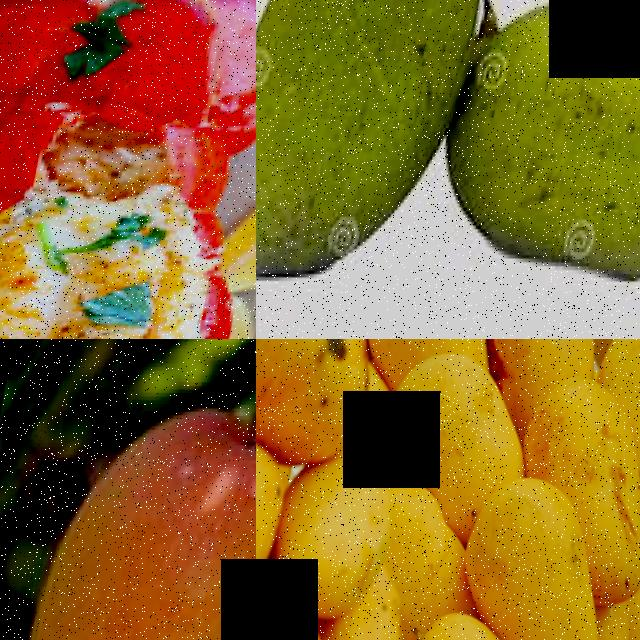lobster tails: (0, 0, 256, 339)
mango: (256, 0, 503, 308), (434, 0, 640, 326), (0, 386, 256, 640), (451, 472, 634, 640), (368, 345, 546, 504), (519, 372, 640, 507)
